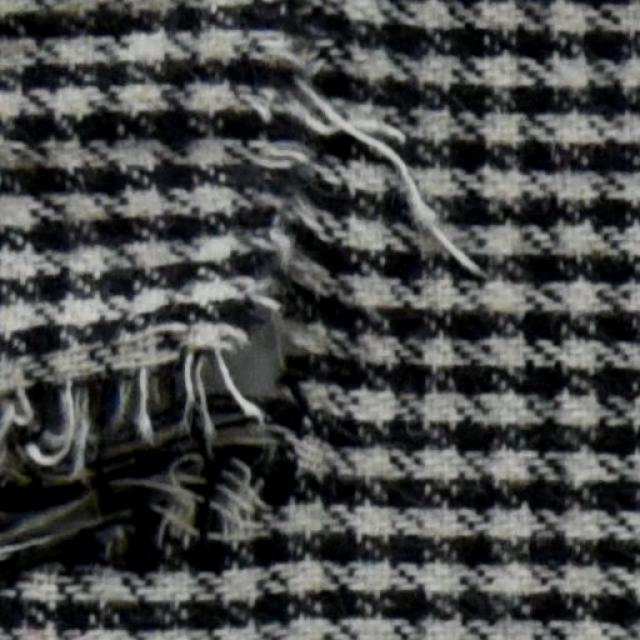Hole: (214, 325, 290, 422)
Snag: (235, 5, 501, 316), (1, 340, 274, 587)
